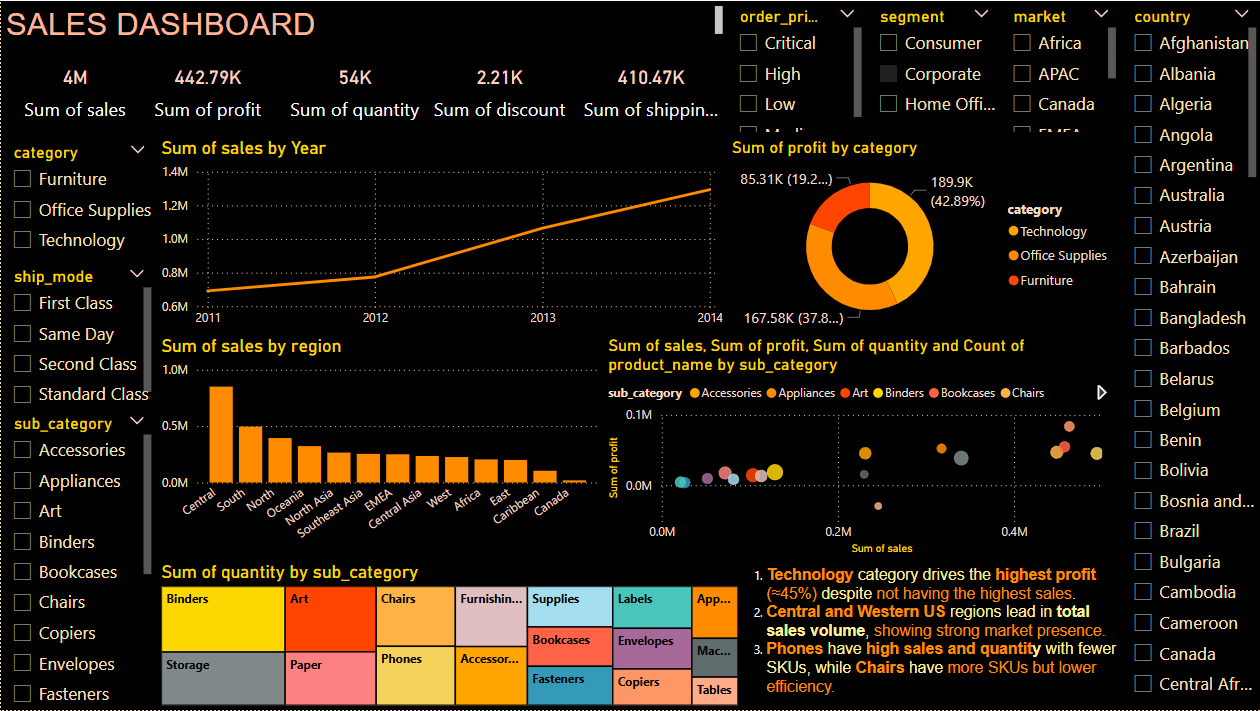

What the dashboard file says about the page in this screenshot:
{"tool":"powerbi","page":{"name":"Page 1","canvas":[1280,720],"ordinal":0},"visuals":[{"type":"card","fields":{"Values":["Sum(Cleaned_Superstore.sales)"]},"box":[0,41.3,150.5,95.9],"z":0},{"type":"card","fields":{"Values":["Sum(Cleaned_Superstore.profit)"]},"box":[134,42,152,96],"z":1000},{"type":"card","fields":{"Values":["Sum(Cleaned_Superstore.quantity)"]},"box":[286,42,146,96],"z":2000},{"type":"card","fields":{"Values":["Sum(Cleaned_Superstore.shipping_cost)"]},"box":[582,42,156,96],"z":3000},{"type":"card","fields":{"Values":["Sum(Cleaned_Superstore.discount)"]},"box":[432,42,150,96],"z":4000},{"type":"textbox","box":[0,0,738,42],"z":5000},{"type":"slicer","fields":{"Values":["Cleaned_Superstore.category"]},"box":[0,138.9,158.7,125.7],"z":6000},{"type":"slicer","fields":{"Values":["Cleaned_Superstore.country"]},"box":[1138,0,142,720],"z":7000},{"type":"slicer","fields":{"Values":["Cleaned_Superstore.market"]},"box":[1016,0,122,138],"z":8000},{"type":"slicer","fields":{"Values":["Cleaned_Superstore.order_priority"]},"box":[738,0,142,138],"z":9000},{"type":"slicer","fields":{"Values":["Cleaned_Superstore.segment"]},"box":[880,0,136,138],"z":10000},{"type":"slicer","fields":{"Values":["Cleaned_Superstore.ship_mode"]},"box":[0,264,158,150],"z":11000},{"type":"slicer","fields":{"Values":["Cleaned_Superstore.sub_category"]},"box":[0,414,158,306],"z":12000},{"type":"lineChart","fields":{"Category":["Cleaned_Superstore.order_date.Variation.Date Hierarchy.Year","Cleaned_Superstore.order_date.Variation.Date Hierarchy.Quarter","Cleaned_Superstore.order_date.Variation.Date Hierarchy.Month","Cleaned_Superstore.order_date.Variation.Date Hierarchy.Day"],"Y":["Sum(Cleaned_Superstore.sales)"]},"box":[158,138,580,202],"z":13000},{"type":"clusteredColumnChart","fields":{"Category":["Cleaned_Superstore.region"],"Y":["Sum(Cleaned_Superstore.sales)"]},"box":[158,340,454,228],"z":14000},{"type":"donutChart","fields":{"Category":["Cleaned_Superstore.category"],"Y":["Sum(Cleaned_Superstore.profit)"]},"box":[738,138,400,202],"z":15000},{"type":"treemap","fields":{"Group":["Cleaned_Superstore.sub_category"],"Values":["Sum(Cleaned_Superstore.quantity)"]},"box":[158,568,606,152],"z":16000},{"type":"textbox","box":[764,568,374,152],"z":17000},{"type":"scatterChart","fields":{"X":["Sum(Cleaned_Superstore.sales)"],"Y":["Sum(Cleaned_Superstore.profit)"],"Series":["Cleaned_Superstore.sub_category"],"Size":["Sum(Cleaned_Superstore.quantity)"]},"box":[612,340,526,228],"z":18000}]}

Visuals, with their boxes in screenshot pixels (x1, y1, x2, y2), scaled from the page's 1280x720 canvas onto the 1260x711 screenshot:
card - Sum(Cleaned_Superstore.sales): l=0, t=41, r=148, b=135
card - Sum(Cleaned_Superstore.profit): l=132, t=41, r=282, b=136
card - Sum(Cleaned_Superstore.quantity): l=282, t=41, r=425, b=136
card - Sum(Cleaned_Superstore.shipping_cost): l=573, t=41, r=726, b=136
card - Sum(Cleaned_Superstore.discount): l=425, t=41, r=573, b=136
textbox: l=0, t=0, r=726, b=41
slicer - Cleaned_Superstore.category: l=0, t=137, r=156, b=261
slicer - Cleaned_Superstore.country: l=1120, t=0, r=1259, b=710
slicer - Cleaned_Superstore.market: l=1000, t=0, r=1120, b=136
slicer - Cleaned_Superstore.order_priority: l=726, t=0, r=866, b=136
slicer - Cleaned_Superstore.segment: l=866, t=0, r=1000, b=136
slicer - Cleaned_Superstore.ship_mode: l=0, t=261, r=156, b=409
slicer - Cleaned_Superstore.sub_category: l=0, t=409, r=156, b=710
lineChart - Cleaned_Superstore.order_date.Variation.Date Hierarchy.Year x Cleaned_Superstore.order_date.Variation.Date Hierarchy.Quarter: l=156, t=136, r=726, b=336
clusteredColumnChart - Cleaned_Superstore.region x Sum(Cleaned_Superstore.sales): l=156, t=336, r=602, b=561
donutChart - Cleaned_Superstore.category x Sum(Cleaned_Superstore.profit): l=726, t=136, r=1120, b=336
treemap - Cleaned_Superstore.sub_category x Sum(Cleaned_Superstore.quantity): l=156, t=561, r=752, b=710
textbox: l=752, t=561, r=1120, b=710
scatterChart - Sum(Cleaned_Superstore.sales) x Sum(Cleaned_Superstore.profit): l=602, t=336, r=1120, b=561
